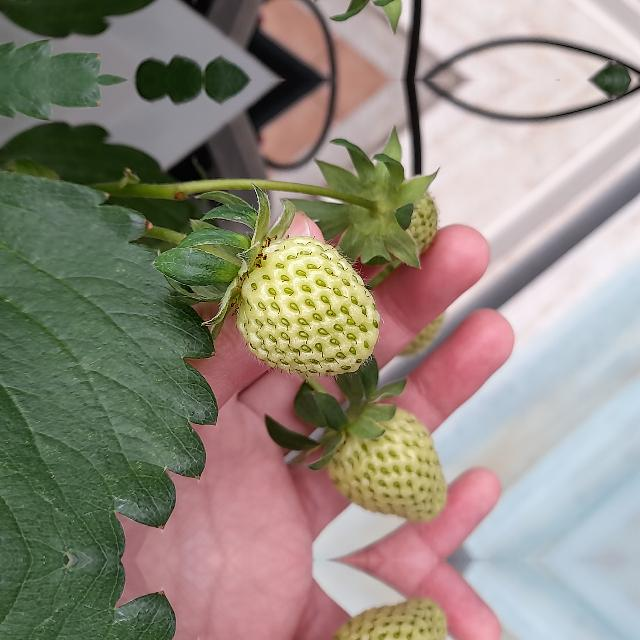Health_25: (236, 235, 380, 375), (324, 400, 452, 526), (324, 594, 451, 640)
